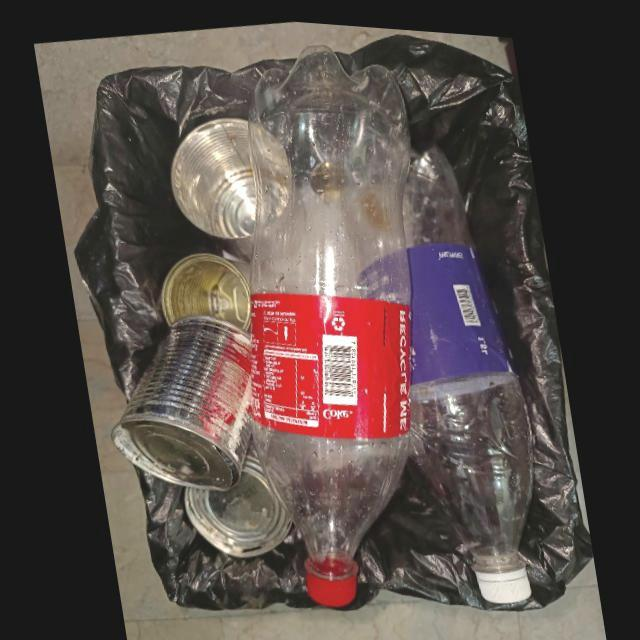aluminum: (112, 317, 252, 488), (172, 113, 261, 259), (185, 432, 292, 551), (158, 245, 252, 343)
plastic_bottle: (243, 42, 411, 600), (404, 139, 535, 595)
